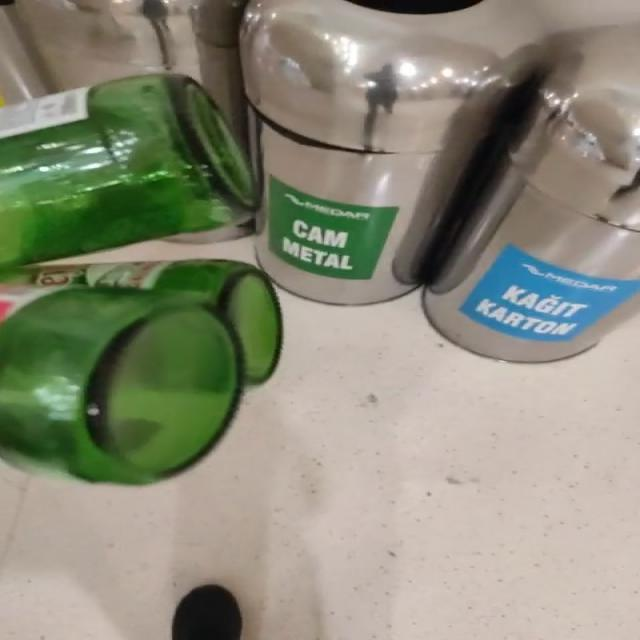bin: (240, 0, 640, 360)
glass: (1, 74, 281, 485)
